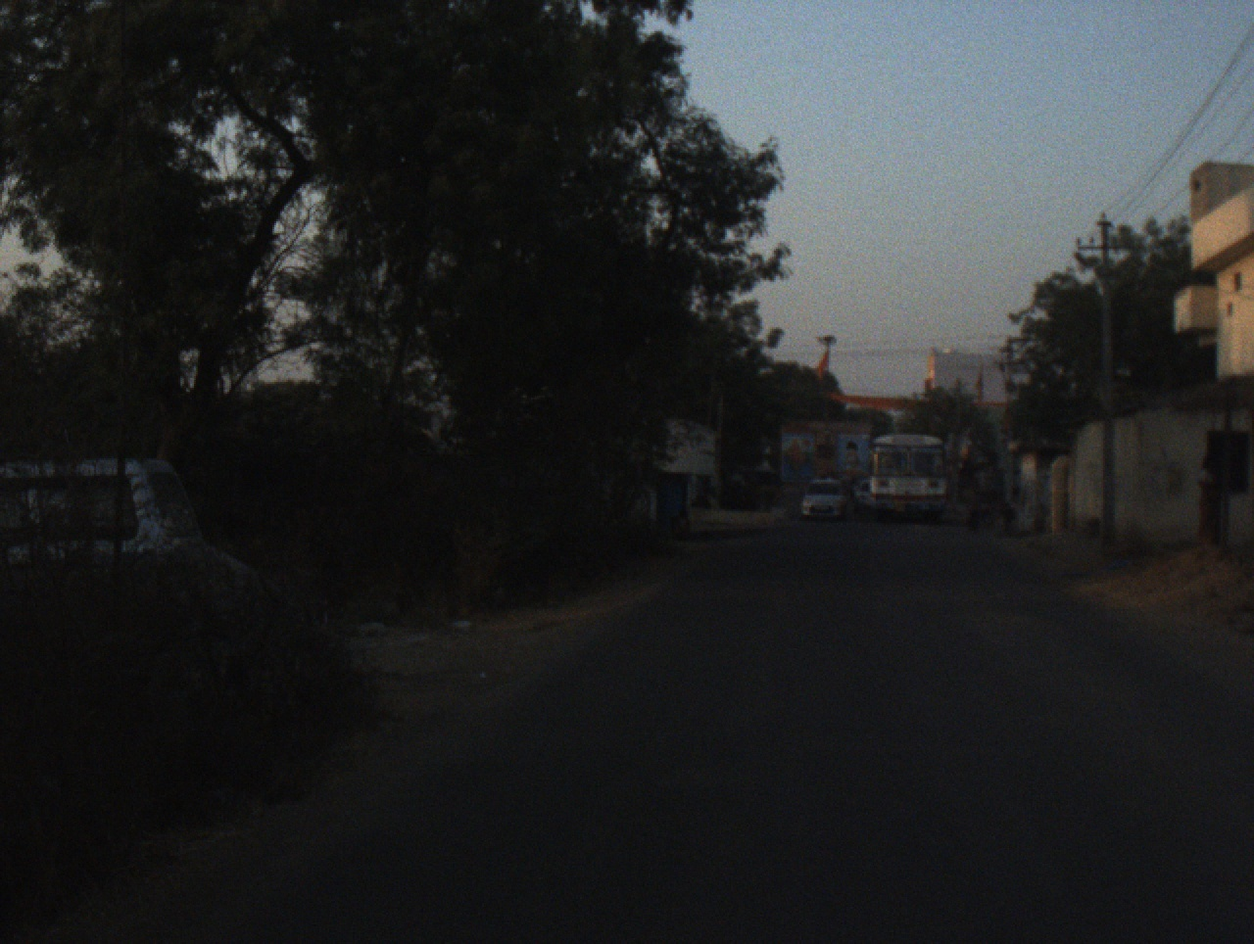bus: (866, 427, 953, 524)
car: (797, 472, 847, 526), (857, 477, 875, 506)
